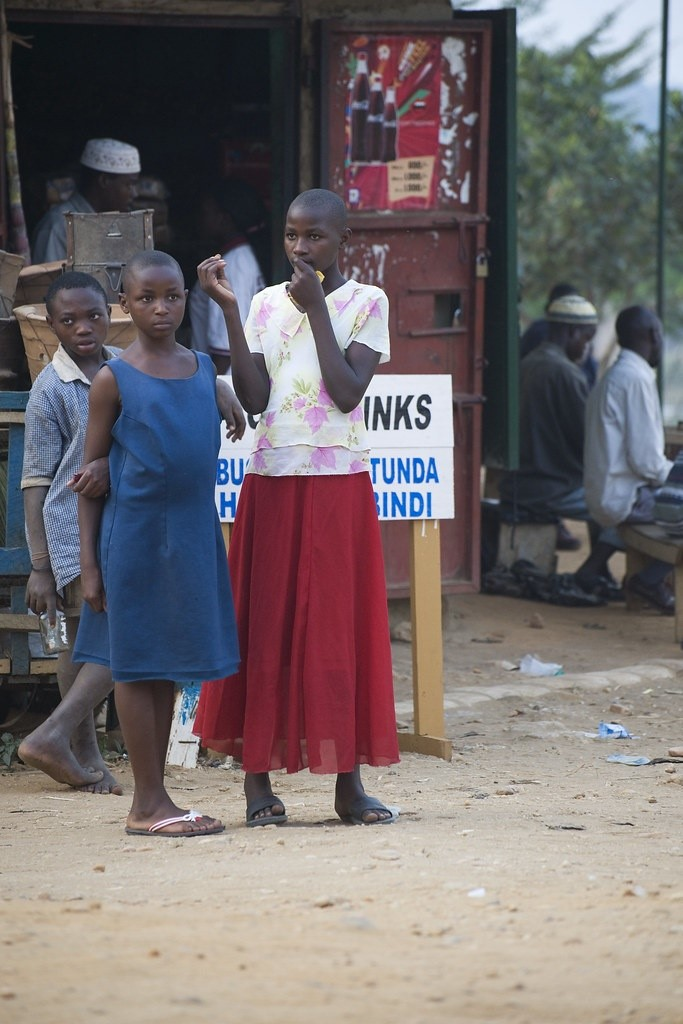face_no_mask: (284, 186, 351, 283), (117, 253, 189, 340), (45, 272, 115, 357), (615, 305, 667, 365)
